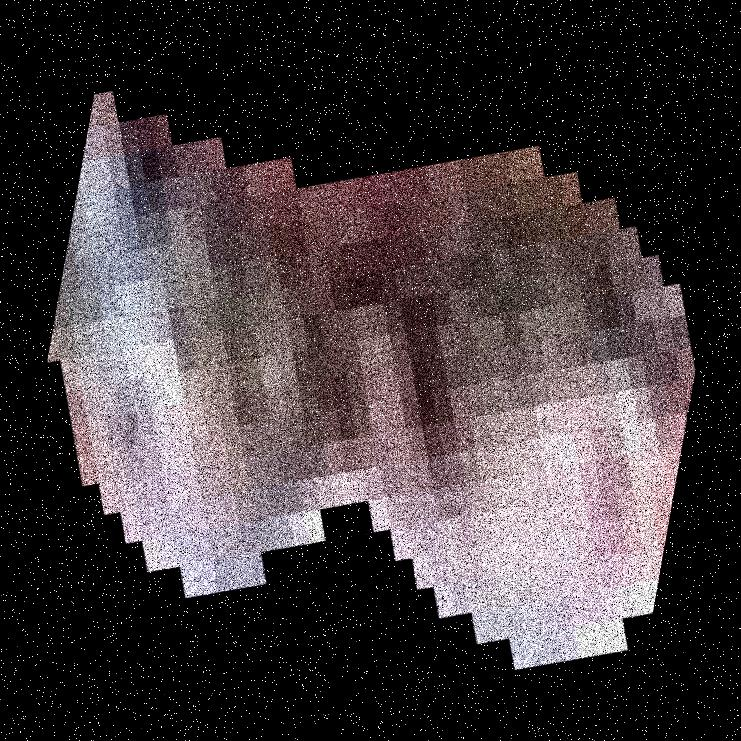Oculos: (427, 0, 620, 740)
